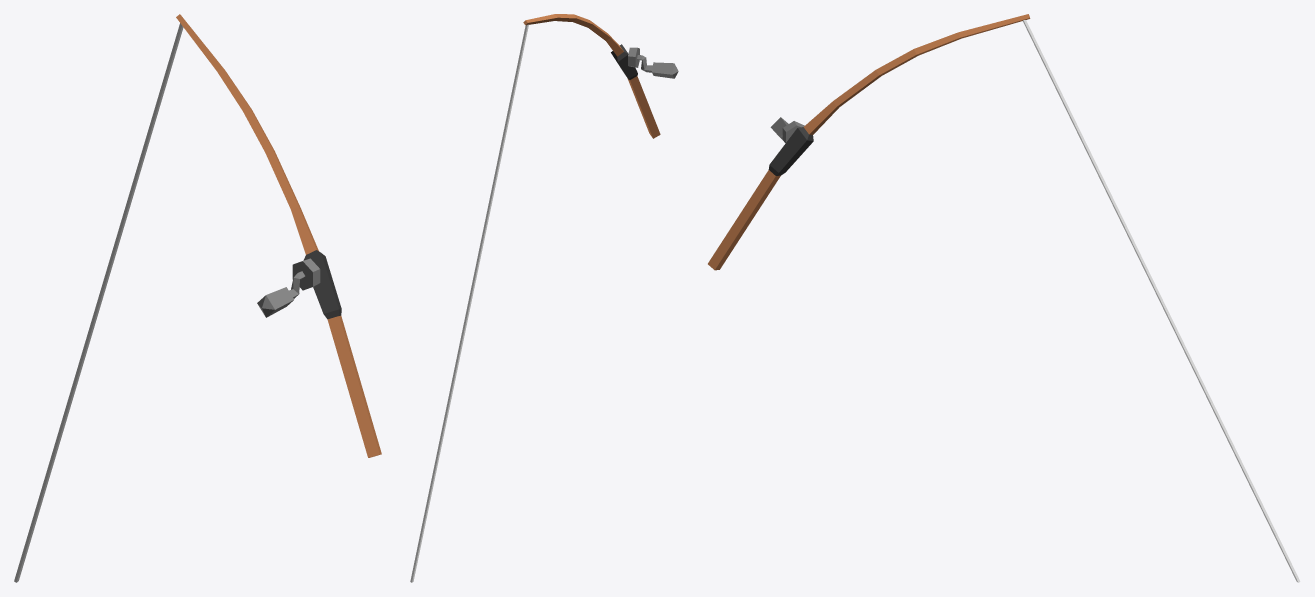
Rendered from fishing_cane.fbx.
3 renders of one model, left to right at view 1: azimuth 30°, elevation 25°; view 2: azimuth 150°, elevation 25°; view 3: azimuth 270°, elevation 25°, orthographic. The views are drawn at different scales.
Parts seen in each view (by area): view 1: fishing_cane; view 2: fishing_cane; view 3: fishing_cane.
Part boxes in pixels (box(x1,y1,x2,y2)): fishing_cane: box(14, 14, 381, 582); fishing_cane: box(410, 14, 678, 582); fishing_cane: box(708, 14, 1300, 582).
Bounding box in the file's own units: 72.48 × 587 × 555.
Materials: 1 (1 with a texture image).
